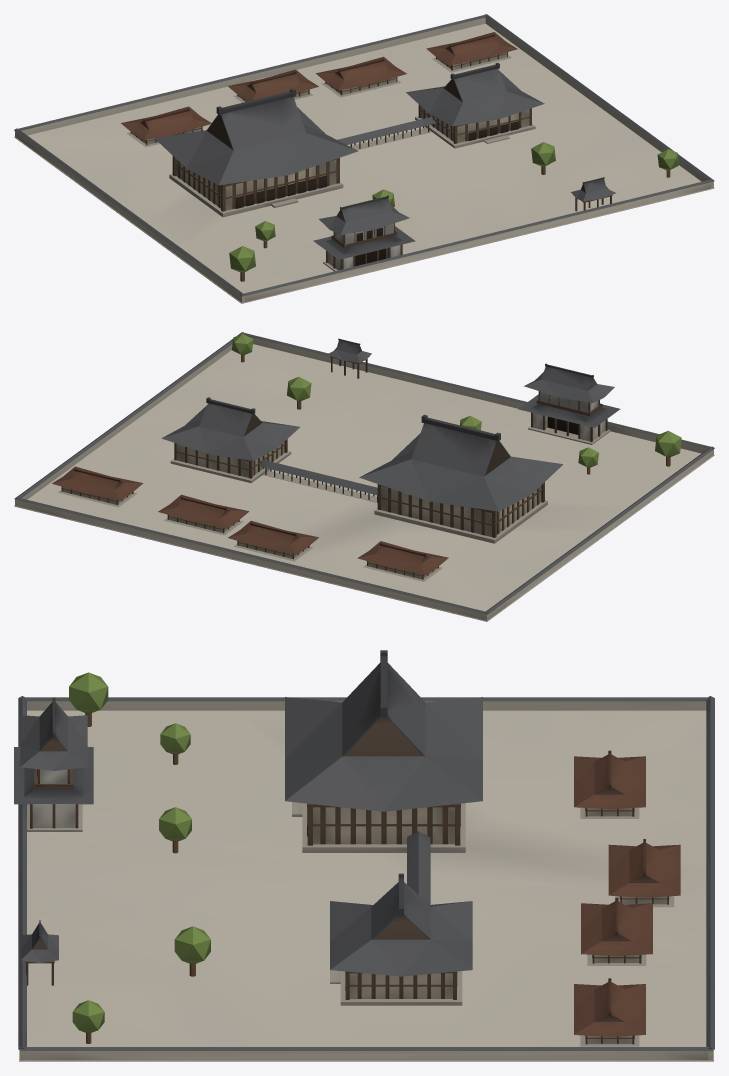
File: nishi-honganji.glb
The picture shows the model from 3 angles, top to bottom: view 1: azimuth 30°, elevation 25°; view 2: azimuth 150°, elevation 25°; view 3: azimuth 270°, elevation 25°; orthographic projection. The views are drawn at different scales.
Parts seen in each view (by area): view 1: p0_grounds, p2_roofs, p1_halls; view 2: p0_grounds, p2_roofs, p1_halls; view 3: p0_grounds, p2_roofs, p1_halls.
Part boxes in pixels (x1=…): p0_grounds: x1=14, y1=14, x2=714, y2=303; p2_roofs: x1=121, y1=32, x2=678, y2=281; p1_halls: x1=127, y1=52, x2=616, y2=271; p0_grounds: x1=14, y1=332, x2=714, y2=621; p2_roofs: x1=52, y1=333, x2=681, y2=574; p1_halls: x1=58, y1=338, x2=610, y2=581; p0_grounds: x1=18, y1=696, x2=714, y2=1061; p2_roofs: x1=14, y1=650, x2=680, y2=1043; p1_halls: x1=21, y1=769, x2=674, y2=1046.
Size of the model in its own units: 240 by 41.39 by 202.
